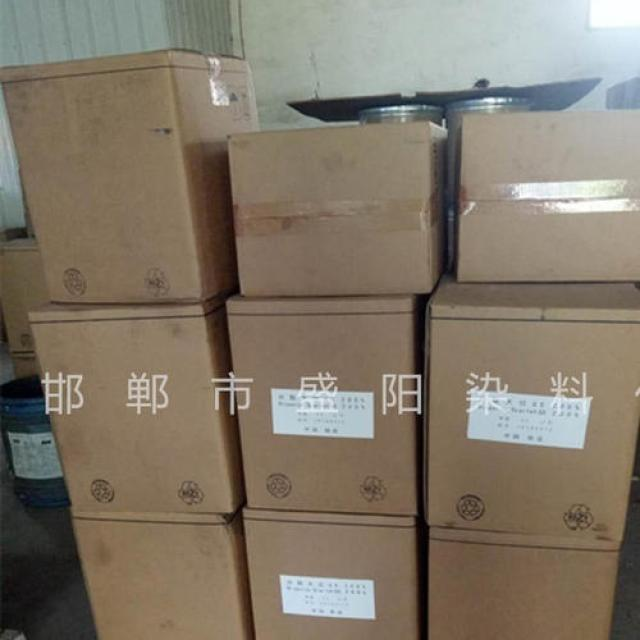box: (0, 45, 265, 301), (424, 281, 639, 540), (27, 288, 244, 512), (226, 295, 421, 518), (229, 123, 448, 299), (455, 111, 639, 282), (71, 509, 255, 639), (240, 509, 421, 639), (424, 527, 619, 638), (4, 235, 50, 356)
